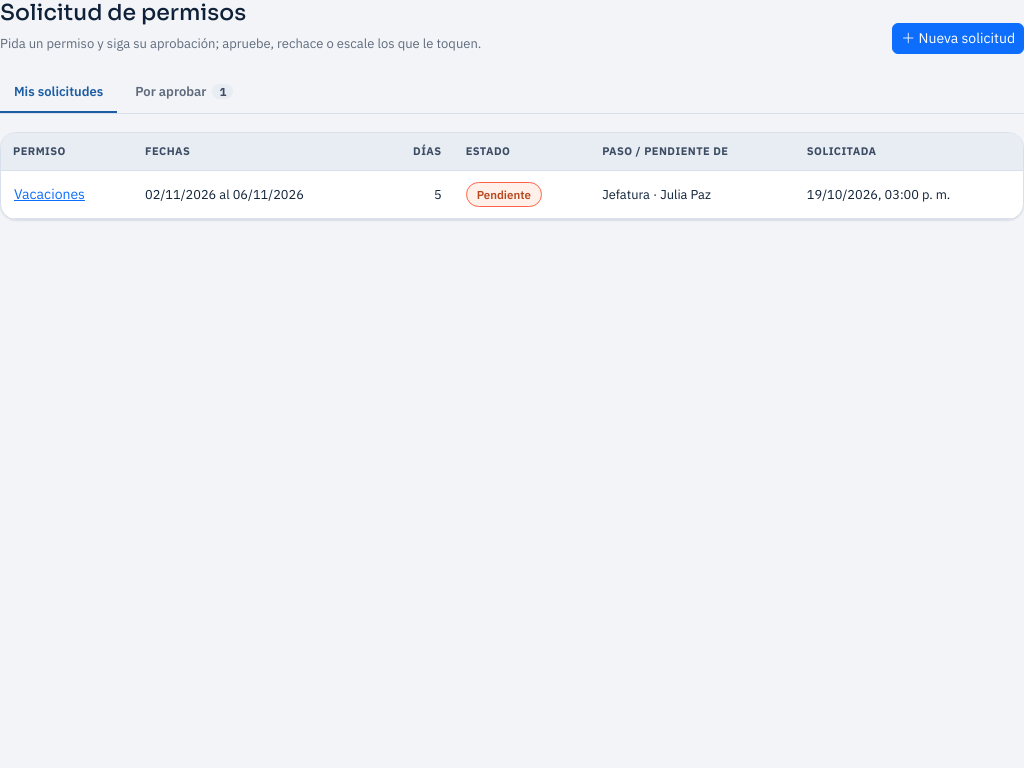
Test: Solicitud de permisos › pide un permiso viendo por qué pasos va a pasar
The width and height of the screenshot is (1024, 768).
Step 1. Click the button "Nueva solicitud" → (958, 38), box [892,23,1023,54]
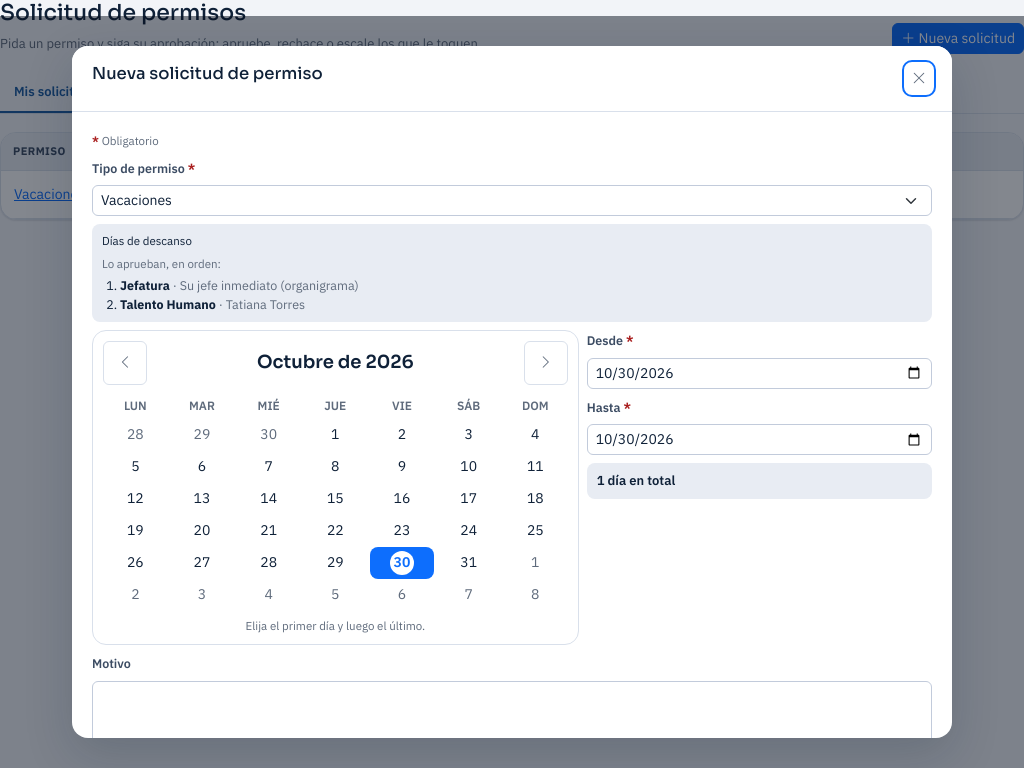
Now the text "Jefatura" is shown, box [120,277,170,293]
Now the text "Talento Humano" is shown, box [120,296,216,312]
Step 2. Type "2026-11-02" into the date field labelled "Desde *" → (759, 373), box [587,358,932,389]
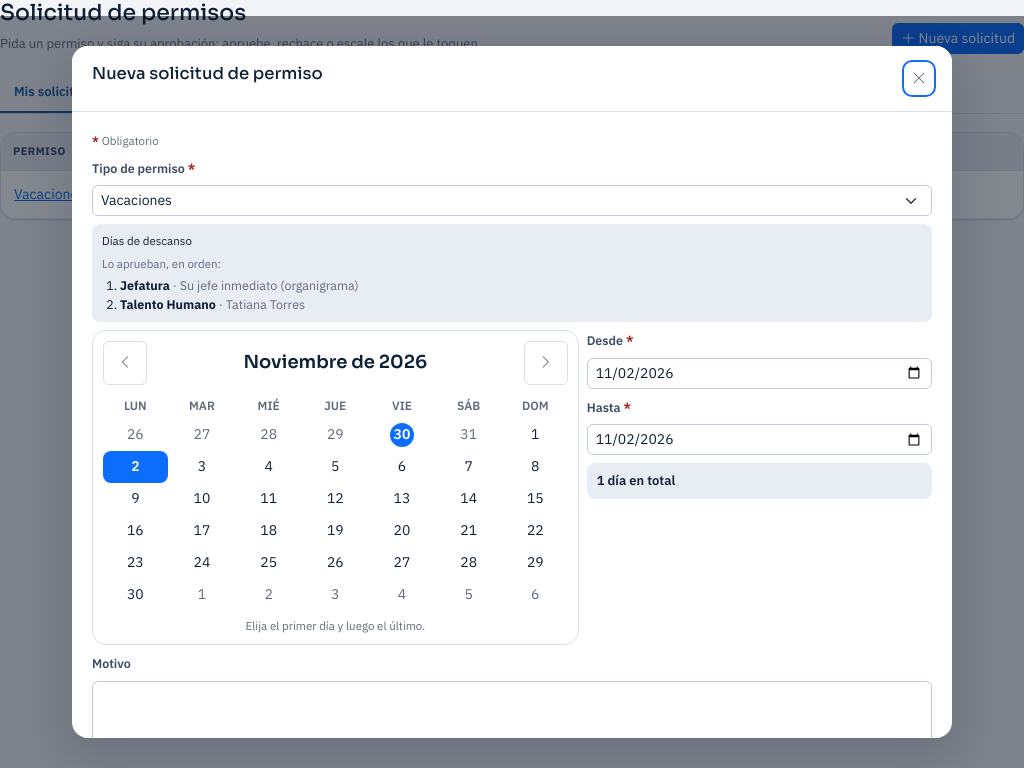
Step 3. Type "2026-11-06" into the date field labelled "Hasta *" → (759, 440), box [587,424,932,455]
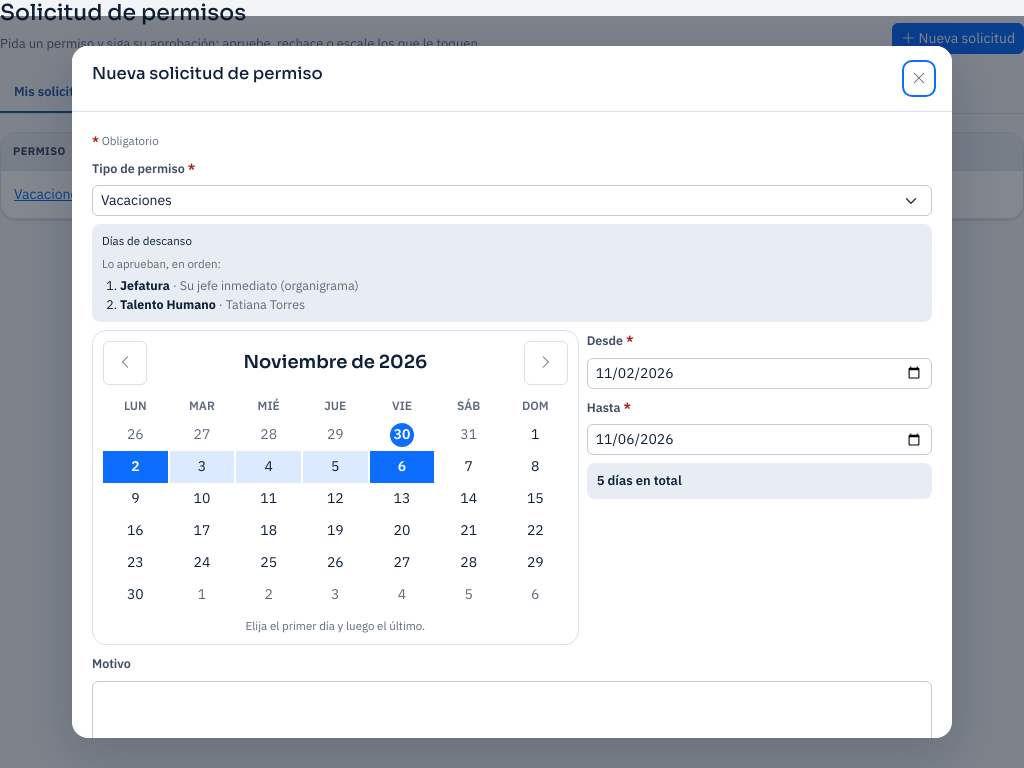
Step 4. Type "Viaje familiar" into the text box labelled "Motivo" → (512, 717), box [92,681,932,754]
(page scrolled)
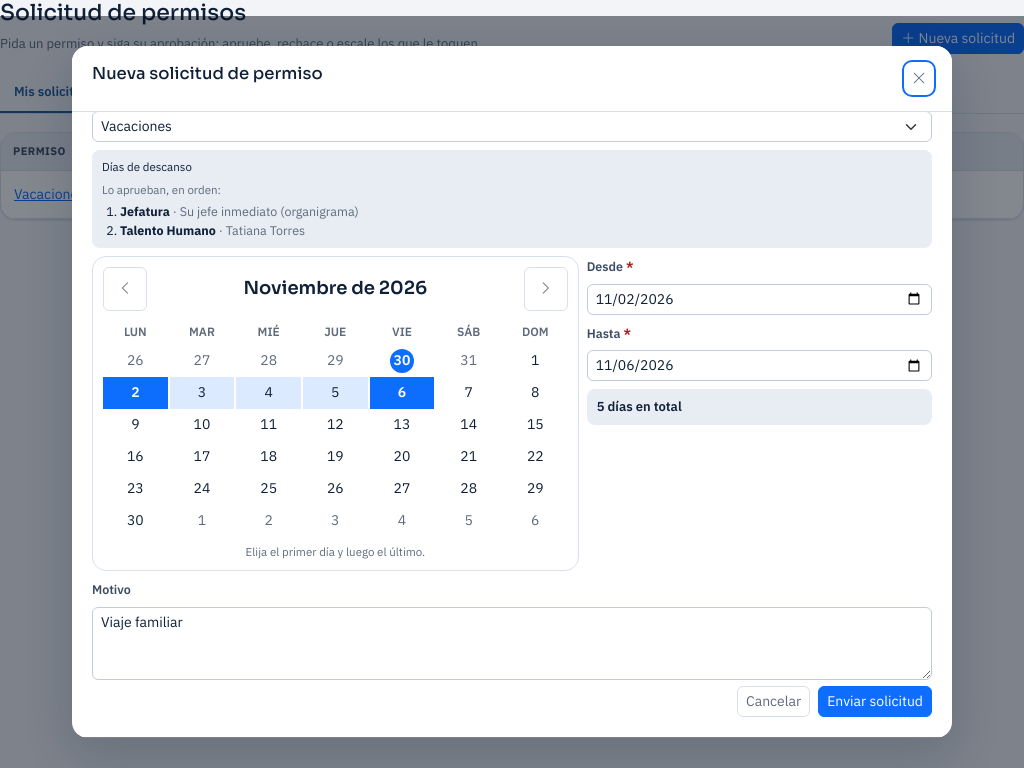
Step 5. Click the button "Enviar solicitud" → (875, 701), box [818,686,932,717]
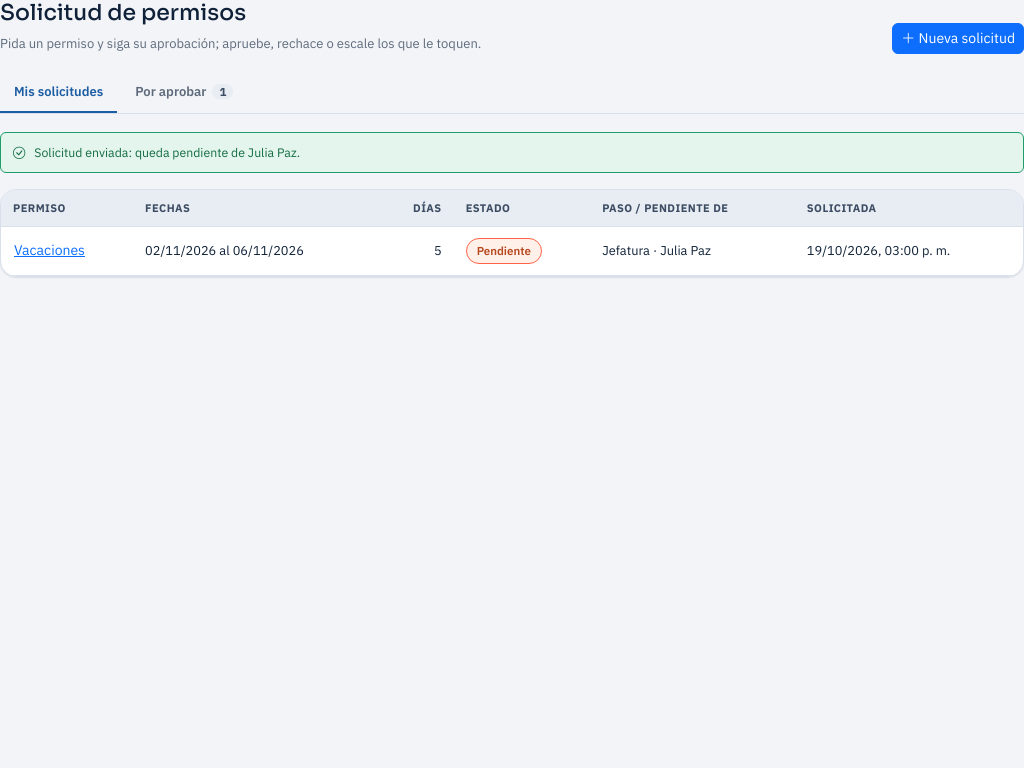
Now the text "Solicitud enviada: queda pendiente de Julia Paz." is shown, box [0,132,1023,173]
